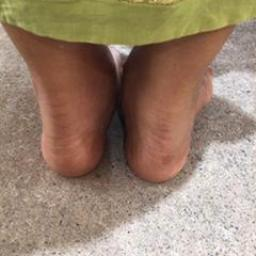Back View -Both Feet-: (2, 30, 229, 190)
